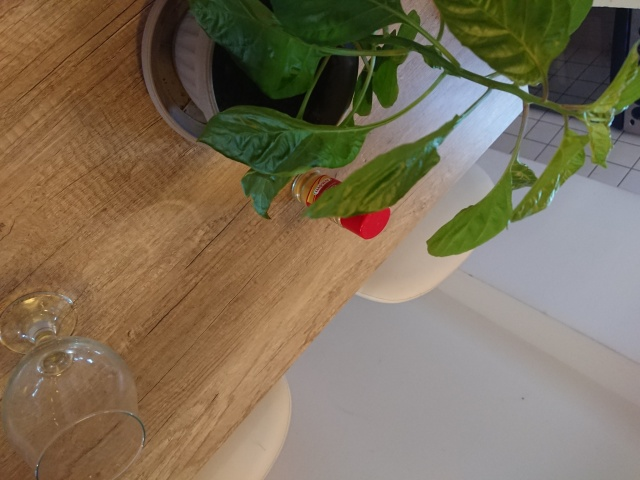Kotanyi Curry Spices Mix 70g: (290, 165, 392, 241)
